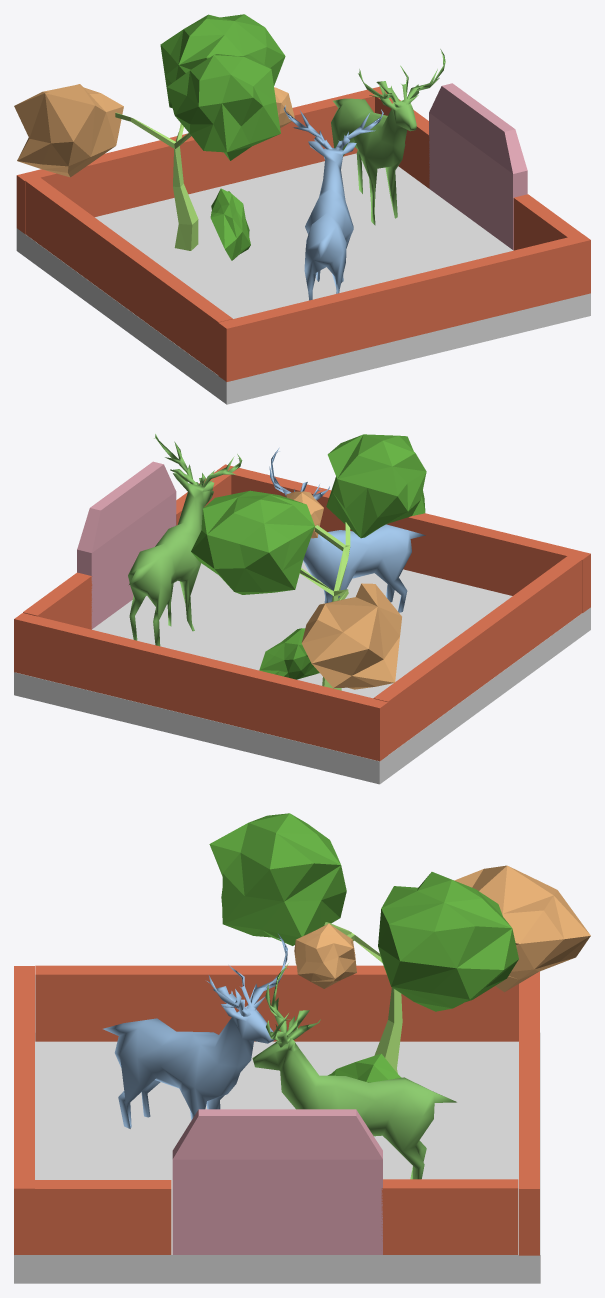
The model's file is building_zoo.fbx.
The picture shows the model from 3 angles, top to bottom: view 1: azimuth 30°, elevation 25°; view 2: azimuth 150°, elevation 25°; view 3: azimuth 270°, elevation 25°; orthographic projection. The views are drawn at different scales.
Parts seen in each view (by area): view 1: rock; view 2: rock; view 3: rock.
Part boxes in pixels (bbox=[...]): rock: bbox=[14, 14, 590, 404]; rock: bbox=[14, 434, 590, 784]; rock: bbox=[14, 813, 590, 1283].
Size of the model in its own units: 51.03 by 32.19 by 54.79.
